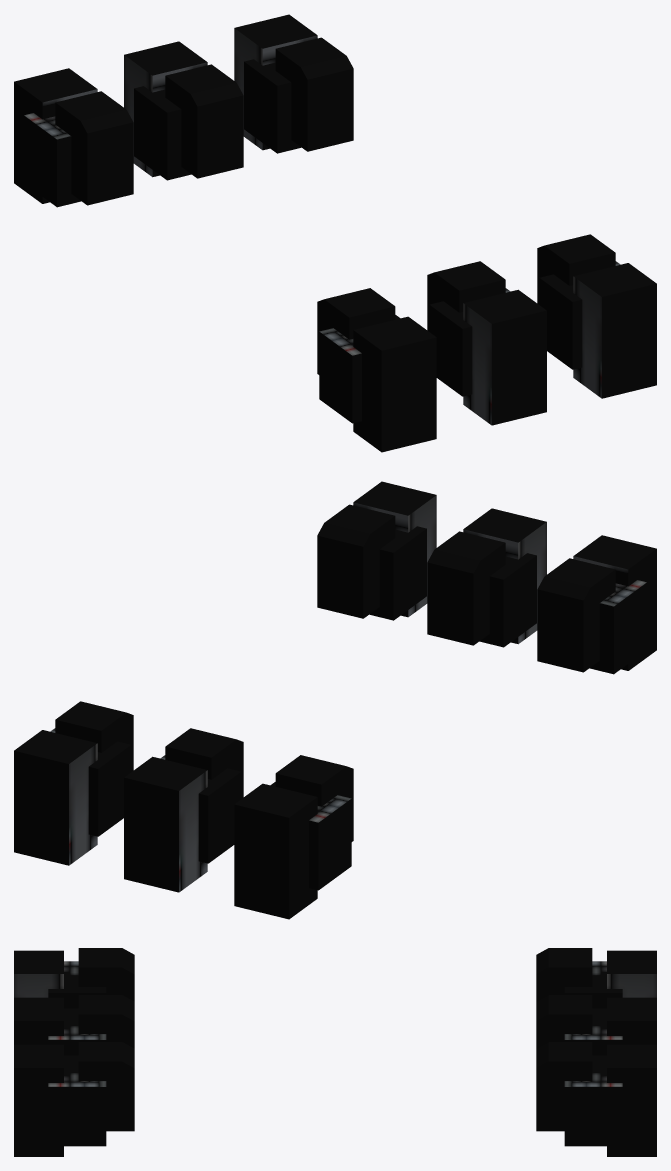
The model's file is brakes.obj.
3 renders of one model, top to bottom at view 1: azimuth 30°, elevation 25°; view 2: azimuth 150°, elevation 25°; view 3: azimuth 270°, elevation 25°, orthographic. The views are drawn at different scales.
Visible parts, largest first — view 1: 3136038a-e410-5f67-32cb-893698ac72b9, 224e01b3-dde7-1522-8f46-a5b51012473c, 63cc0456-1fa4-2235-272b-25c042537336, c1d3c426-4b20-b4dc-d850-e2228f7a7e7e, 9d499739-351b-3301-25b4-d0aac0027e25, a292e5a3-5958-7b0d-60b8-7d00408d13f2, 9c58c9cd-b42b-ff24-cfcf-48820ecf80e1, 6afa1eef-dcd8-e166-fc96-f94263e2ed12, 164747b7-790b-fc29-061a-d51ab5ba3604, d2400c41-d4d6-f9e7-df7b-589ca3bcc2b0, 12566d5e-bb53-242a-8ef3-31c0afc485c8, 9ef23372-8f2c-3a19-943d-e411f74e8813 (+6 smaller); view 2: d5bb6c31-5ce2-53d5-c90f-029994c1355d, cb46a0ee-6354-844f-6aea-148e93308e00, d2400c41-d4d6-f9e7-df7b-589ca3bcc2b0, 44968834-1ccf-592b-e3bc-d5bbc7b03f73, 426beb2a-e04b-f093-f93e-71ca4933f8c8, 69bebea9-8128-0e7a-448c-ff7c1a375a2c, e4a1a3a2-b875-e3da-f4ad-5b313dbda758, 12566d5e-bb53-242a-8ef3-31c0afc485c8, 9ef23372-8f2c-3a19-943d-e411f74e8813, 224e01b3-dde7-1522-8f46-a5b51012473c, 6afa1eef-dcd8-e166-fc96-f94263e2ed12, 164747b7-790b-fc29-061a-d51ab5ba3604 (+6 smaller); view 3: cb46a0ee-6354-844f-6aea-148e93308e00, 63cc0456-1fa4-2235-272b-25c042537336, 9c58c9cd-b42b-ff24-cfcf-48820ecf80e1, e4a1a3a2-b875-e3da-f4ad-5b313dbda758, a292e5a3-5958-7b0d-60b8-7d00408d13f2, 69bebea9-8128-0e7a-448c-ff7c1a375a2c, c1d3c426-4b20-b4dc-d850-e2228f7a7e7e, 9d499739-351b-3301-25b4-d0aac0027e25, 44968834-1ccf-592b-e3bc-d5bbc7b03f73, 426beb2a-e04b-f093-f93e-71ca4933f8c8, d5bb6c31-5ce2-53d5-c90f-029994c1355d, d2400c41-d4d6-f9e7-df7b-589ca3bcc2b0 (+6 smaller).
Part boxes in pixels (x1,y1,x2,y2): 3136038a-e410-5f67-32cb-893698ac72b9: (463, 289, 546, 425); 224e01b3-dde7-1522-8f46-a5b51012473c: (353, 316, 436, 452); 63cc0456-1fa4-2235-272b-25c042537336: (573, 263, 656, 398); c1d3c426-4b20-b4dc-d850-e2228f7a7e7e: (165, 64, 243, 178); 9d499739-351b-3301-25b4-d0aac0027e25: (55, 91, 133, 205); a292e5a3-5958-7b0d-60b8-7d00408d13f2: (275, 37, 353, 151); 9c58c9cd-b42b-ff24-cfcf-48820ecf80e1: (244, 59, 301, 153); 6afa1eef-dcd8-e166-fc96-f94263e2ed12: (24, 113, 81, 207); 164747b7-790b-fc29-061a-d51ab5ba3604: (134, 86, 191, 180); d2400c41-d4d6-f9e7-df7b-589ca3bcc2b0: (14, 68, 97, 203); 12566d5e-bb53-242a-8ef3-31c0afc485c8: (319, 315, 400, 423); 9ef23372-8f2c-3a19-943d-e411f74e8813: (429, 288, 510, 396); d5bb6c31-5ce2-53d5-c90f-029994c1355d: (124, 756, 207, 892); cb46a0ee-6354-844f-6aea-148e93308e00: (14, 730, 97, 865); d2400c41-d4d6-f9e7-df7b-589ca3bcc2b0: (234, 783, 317, 919); 44968834-1ccf-592b-e3bc-d5bbc7b03f73: (427, 531, 505, 645); 426beb2a-e04b-f093-f93e-71ca4933f8c8: (537, 558, 615, 672); 69bebea9-8128-0e7a-448c-ff7c1a375a2c: (317, 504, 395, 618); e4a1a3a2-b875-e3da-f4ad-5b313dbda758: (369, 526, 426, 620); 12566d5e-bb53-242a-8ef3-31c0afc485c8: (589, 580, 646, 674); 9ef23372-8f2c-3a19-943d-e411f74e8813: (479, 553, 536, 647); 224e01b3-dde7-1522-8f46-a5b51012473c: (573, 535, 656, 670); 6afa1eef-dcd8-e166-fc96-f94263e2ed12: (270, 782, 351, 890); 164747b7-790b-fc29-061a-d51ab5ba3604: (160, 755, 241, 863); cb46a0ee-6354-844f-6aea-148e93308e00: (607, 1044, 656, 1156); 63cc0456-1fa4-2235-272b-25c042537336: (14, 1044, 63, 1156); 9c58c9cd-b42b-ff24-cfcf-48820ecf80e1: (564, 1055, 622, 1146); e4a1a3a2-b875-e3da-f4ad-5b313dbda758: (48, 1055, 106, 1146); a292e5a3-5958-7b0d-60b8-7d00408d13f2: (536, 1042, 592, 1131); 69bebea9-8128-0e7a-448c-ff7c1a375a2c: (78, 1042, 134, 1131); c1d3c426-4b20-b4dc-d850-e2228f7a7e7e: (536, 995, 592, 1048); 9d499739-351b-3301-25b4-d0aac0027e25: (536, 948, 592, 1001); 44968834-1ccf-592b-e3bc-d5bbc7b03f73: (78, 995, 134, 1048); 426beb2a-e04b-f093-f93e-71ca4933f8c8: (78, 948, 134, 1001); d5bb6c31-5ce2-53d5-c90f-029994c1355d: (607, 997, 656, 1044); d2400c41-d4d6-f9e7-df7b-589ca3bcc2b0: (607, 950, 656, 997).
Bounding box in the file's own units: 1.14 × 0.3938 × 2.46.
